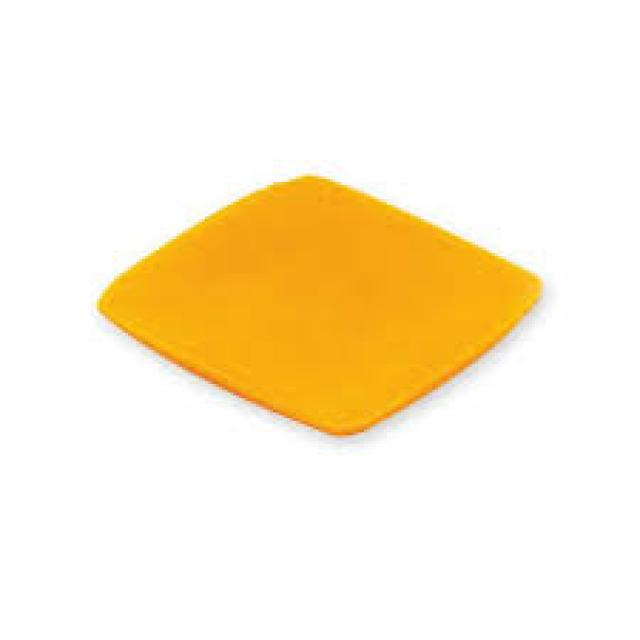slicecheese: (99, 176, 546, 439)
